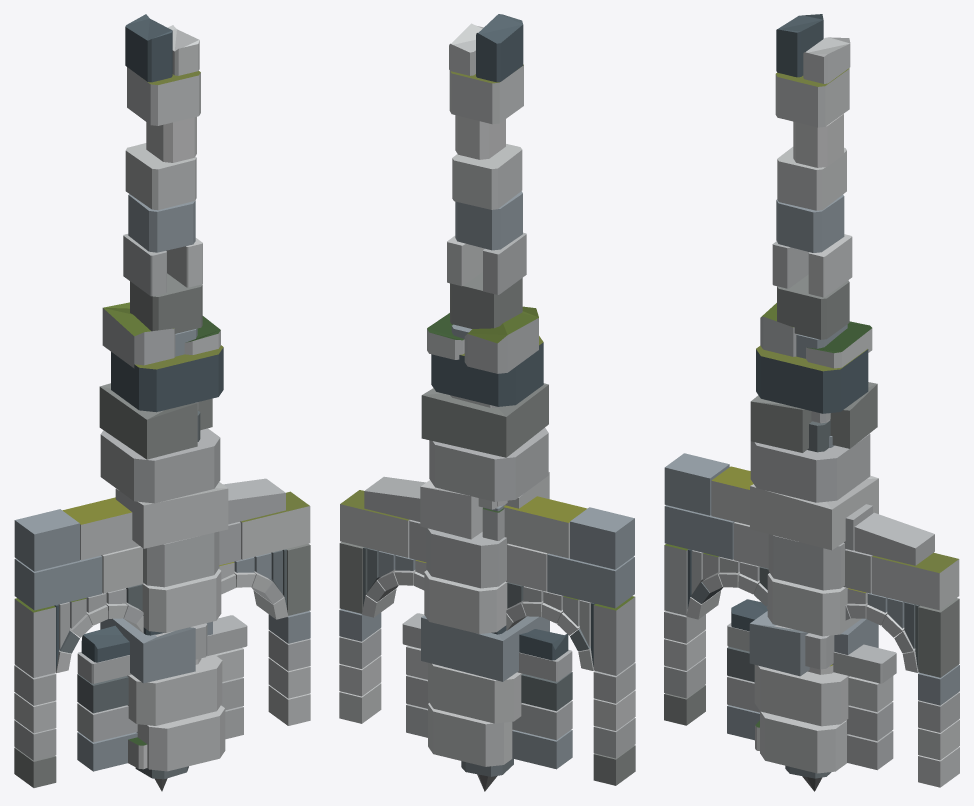
The model's file is depths_scenery_kit_web_draco.glb.
3 views of the same model, side by side, from view 1: azimuth 30°, elevation 25°; view 2: azimuth 150°, elevation 25°; view 3: azimuth 330°, elevation 25° (orthographic).
Parts seen in each view (by area): view 1: Kit_Foreground_Pillar, Kit_Arch_Wall, Kit_Tower_Tall, Kit_Wall_Fragment, Kit_Tower_Stub, Kit_Rubble; view 2: Kit_Foreground_Pillar, Kit_Arch_Wall, Kit_Tower_Tall, Kit_Wall_Fragment, Kit_Tower_Mid, Kit_Block_C; view 3: Kit_Foreground_Pillar, Kit_Arch_Wall, Kit_Tower_Tall, Kit_Wall_Fragment, Kit_Tower_Stub.
Boxes of the visible parts, bbox=[...] form: Kit_Foreground_Pillar: bbox=[99, 302, 228, 771]; Kit_Arch_Wall: bbox=[14, 478, 310, 787]; Kit_Tower_Tall: bbox=[123, 14, 202, 441]; Kit_Wall_Fragment: bbox=[77, 615, 247, 771]; Kit_Tower_Stub: bbox=[143, 623, 207, 664]; Kit_Rubble: bbox=[128, 737, 147, 769]; Kit_Foreground_Pillar: bbox=[420, 306, 549, 766]; Kit_Arch_Wall: bbox=[339, 476, 635, 785]; Kit_Tower_Tall: bbox=[447, 14, 526, 511]; Kit_Wall_Fragment: bbox=[402, 613, 572, 769]; Kit_Tower_Mid: bbox=[450, 395, 504, 540]; Kit_Block_C: bbox=[461, 758, 513, 776]; Kit_Foreground_Pillar: bbox=[749, 303, 878, 773]; Kit_Arch_Wall: bbox=[664, 453, 959, 787]; Kit_Tower_Tall: bbox=[772, 14, 852, 452]; Kit_Wall_Fragment: bbox=[727, 599, 896, 770]; Kit_Tower_Stub: bbox=[774, 625, 834, 674].
Bounding box in the file's own units: 8 × 21.27 × 2.6.
